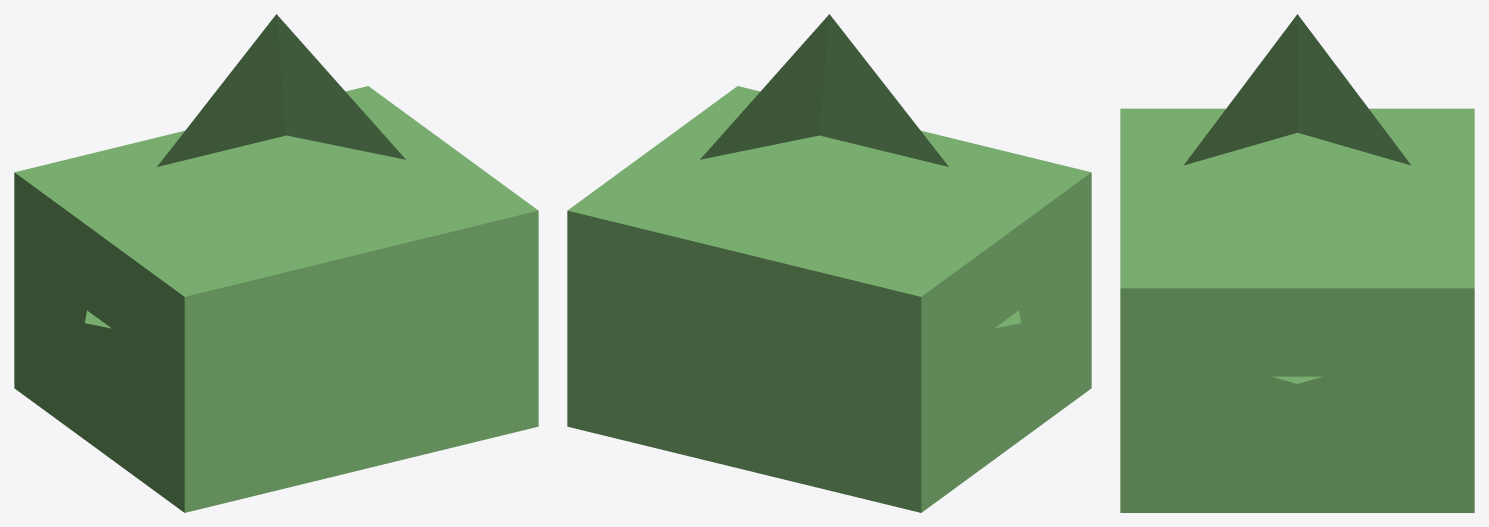
Rendered from BushSmall.glb.
3 renders of one model, left to right at view 1: azimuth 30°, elevation 25°; view 2: azimuth 150°, elevation 25°; view 3: azimuth 270°, elevation 25°, orthographic. The views are drawn at different scales.
Visible parts, largest first — view 1: filler_BushSmall; view 2: filler_BushSmall; view 3: filler_BushSmall.
Boxes of the visible parts, box(x1,y1,x2,y2) form: filler_BushSmall: box(14, 14, 538, 512); filler_BushSmall: box(567, 14, 1091, 512); filler_BushSmall: box(1120, 14, 1474, 512).
Size of the model in its own units: 0.975 by 0.9563 by 0.75.
